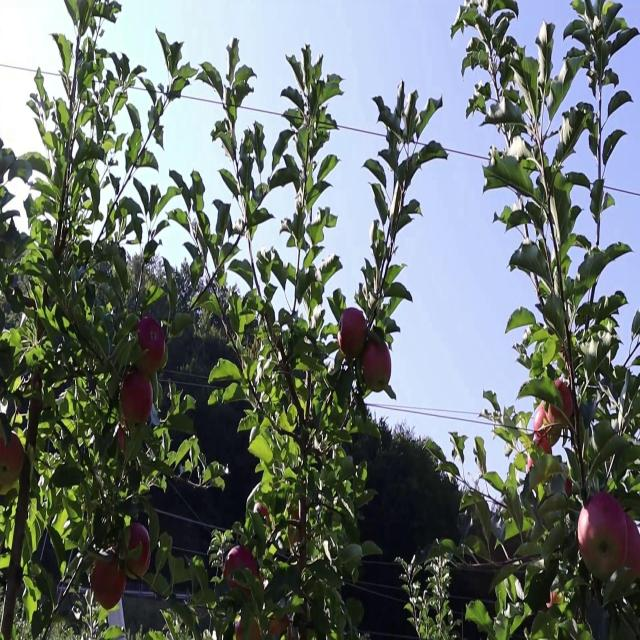apple: (580, 490, 625, 583), (92, 547, 128, 612), (120, 369, 155, 427), (136, 319, 167, 377), (224, 547, 258, 597), (340, 305, 368, 363), (364, 341, 392, 396), (128, 519, 152, 580), (620, 519, 640, 583), (548, 383, 576, 428), (4, 433, 26, 476), (288, 497, 307, 544), (268, 611, 291, 638), (236, 618, 261, 639), (533, 433, 553, 459), (532, 405, 548, 437), (4, 469, 18, 498), (116, 426, 128, 457), (256, 504, 271, 524), (564, 476, 575, 500)
